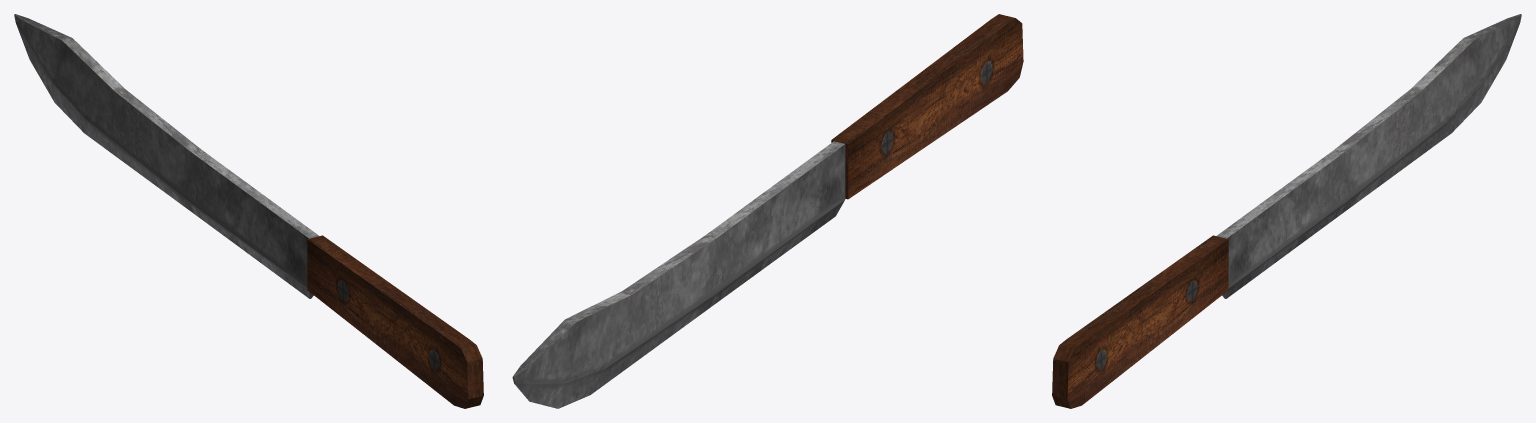
Rendered from ps1-style-machete.glb.
The picture shows the model from 3 angles, left to right: view 1: azimuth 30°, elevation 25°; view 2: azimuth 150°, elevation 25°; view 3: azimuth 330°, elevation 25°; orthographic projection. The views are drawn at different scales.
Parts seen in each view (by area): view 1: Cube.001, Cube; view 2: Cube.001, Cube; view 3: Cube.001, Cube.
Part boxes in pixels (left/top/right/bottom): Cube.001: left=14, top=14, right=319, bottom=298; Cube: left=307, top=235, right=483, bottom=408; Cube.001: left=512, top=141, right=845, bottom=408; Cube: left=831, top=14, right=1023, bottom=199; Cube.001: left=1216, top=14, right=1521, bottom=298; Cube: left=1052, top=235, right=1228, bottom=408.
Size of the model in its own units: 0.243 by 1.22 by 12.53.
Materials: 1 (1 with a texture image).
